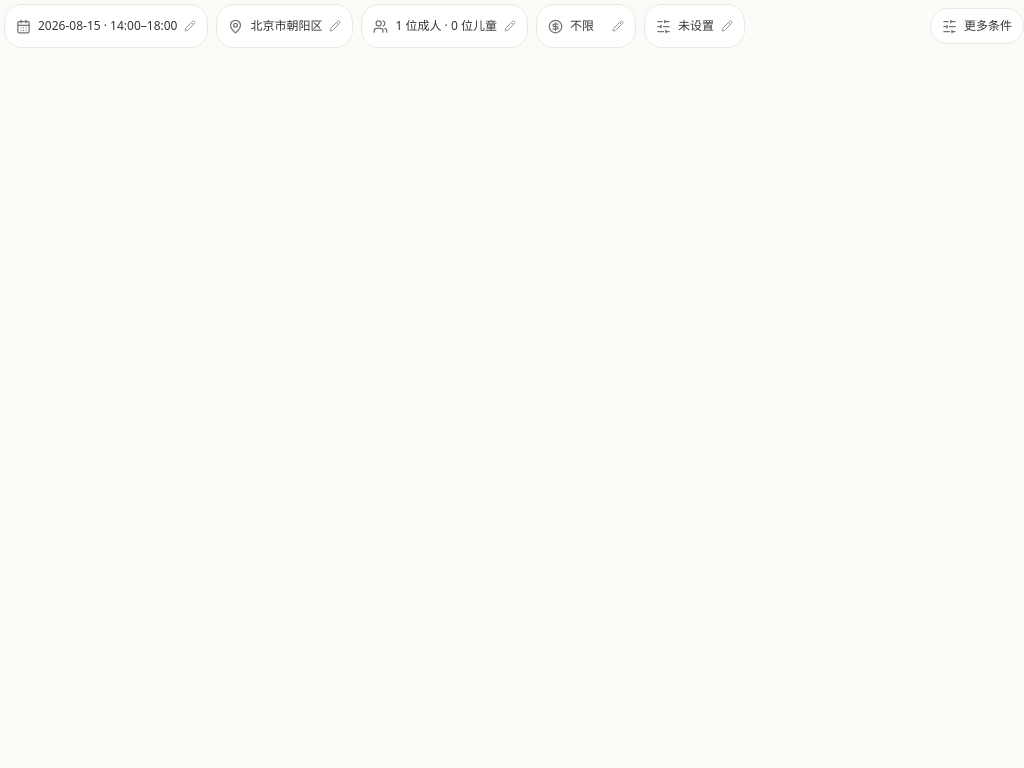
Test: PlanningContextBar typed patches › names the current origin and explains the fixed demo default in the editor
What coordinates should you click on to do the following:
click the button with aria-label "修改出发地，当前北京市朝阳区"
I would click on:
 (285, 26)
Its box is x1=216 y1=4 x2=354 y2=48.
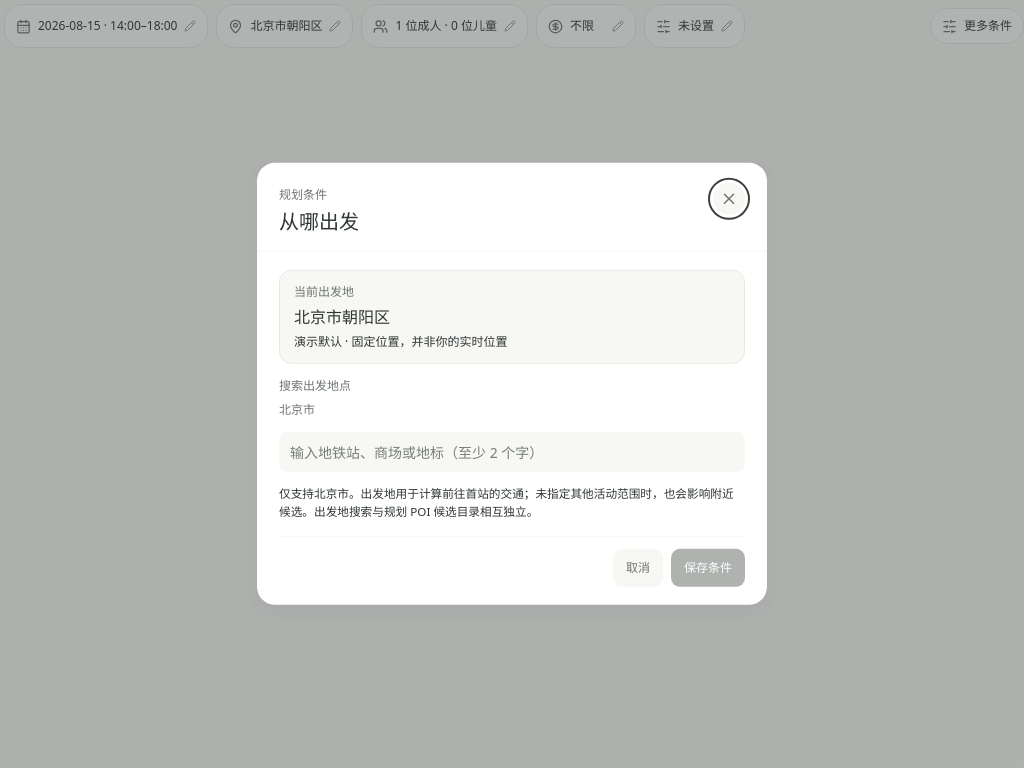
Check: the heading "从哪出发" is shown, box x1=279 y1=207 x2=359 y2=237
Check: the element labelled "当前出发地" shows "北京市朝阳区", box x1=294 y1=306 x2=390 y2=328
Check: the element labelled "当前出发地" shows "固定位置，并非你的实时位置", box x1=294 y1=333 x2=508 y2=350
